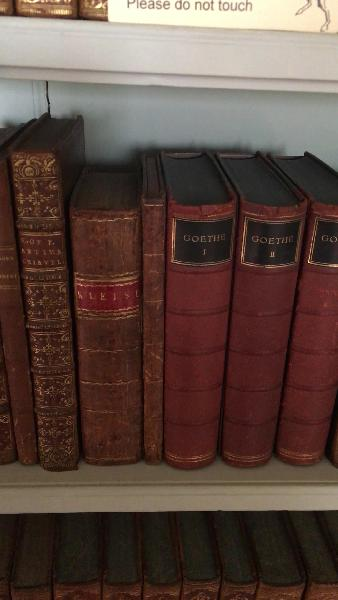Aa6-10: (136, 189, 167, 464)
Aa6-11_13: (159, 197, 338, 473)
Aa6-9: (9, 140, 83, 472), (63, 208, 146, 470)
